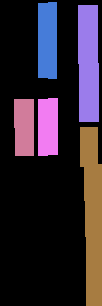parkingspot: (78, 5, 98, 121), (38, 2, 56, 78), (84, 164, 102, 236), (86, 236, 102, 306), (38, 98, 57, 155), (14, 99, 33, 155), (80, 127, 97, 166)
